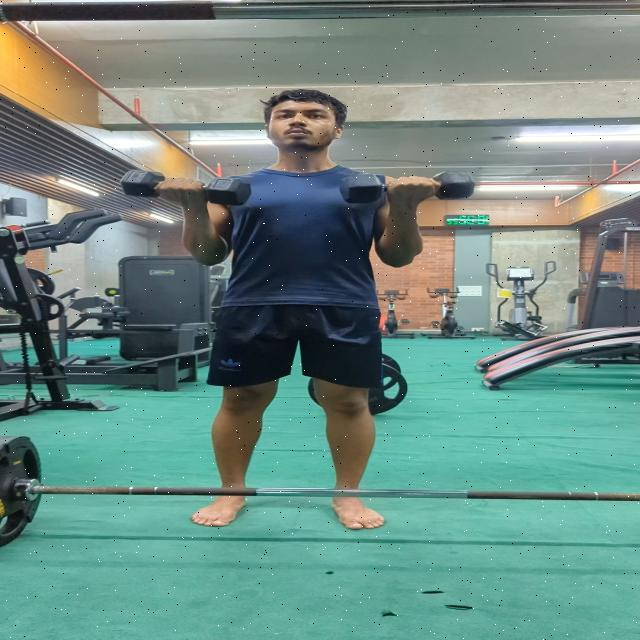Normal_DumbbellBicepCurls: (112, 84, 478, 532)
